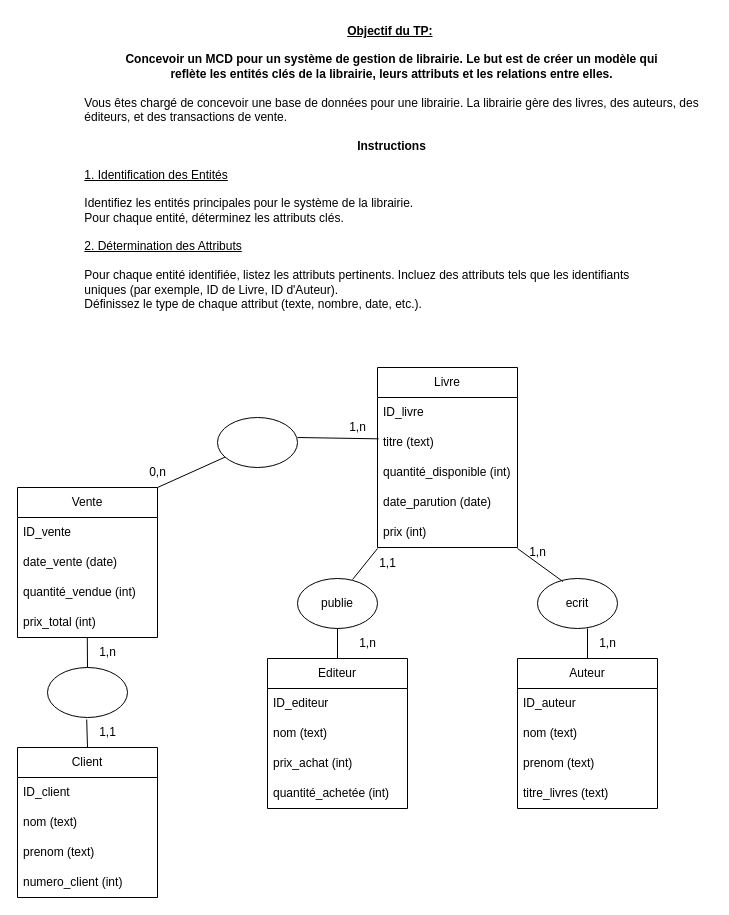
Image size: 729x915. Some labels were removed from this diagram. The centre of each missing label's shape, as x and y in pixels:
compose: the point at 257,442
passe: the point at 87,692
